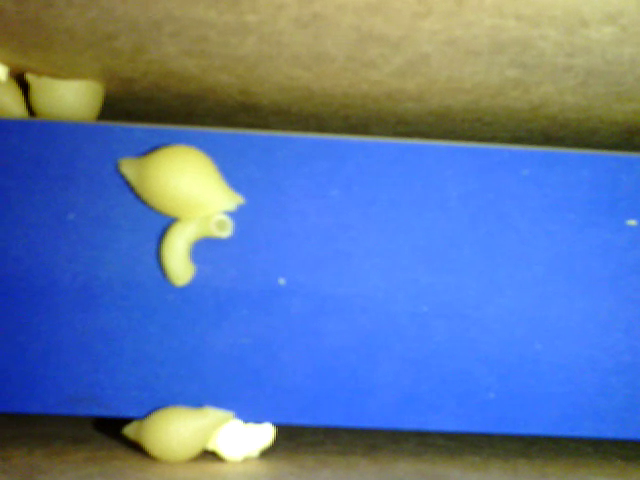elbow: (156, 213, 235, 290)
shell: (114, 141, 247, 220), (123, 402, 236, 465), (26, 73, 106, 121)
